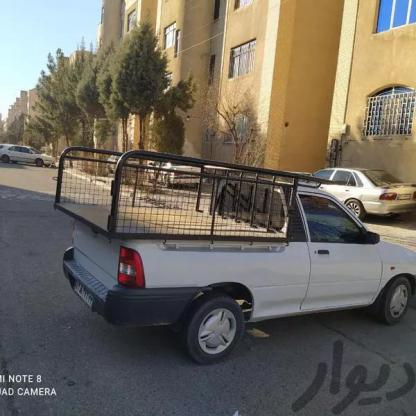Car: (57, 168, 410, 362), (312, 162, 416, 235), (0, 137, 64, 169)
